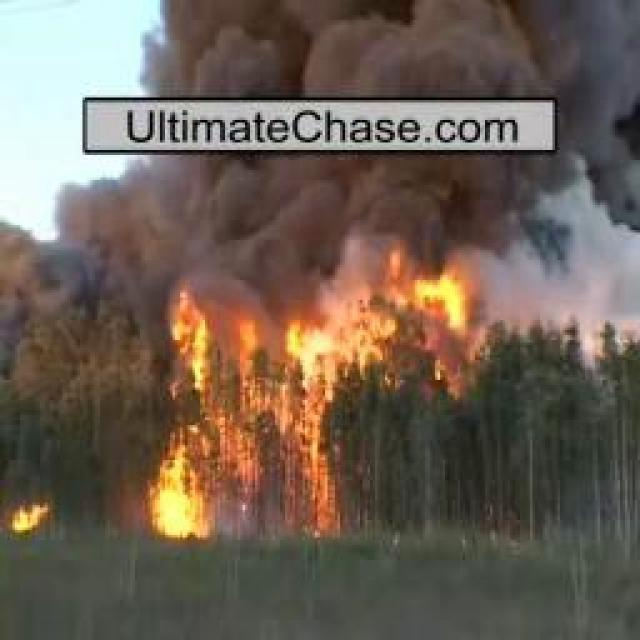Fire: (149, 282, 337, 546), (371, 246, 473, 382), (13, 499, 47, 534)
